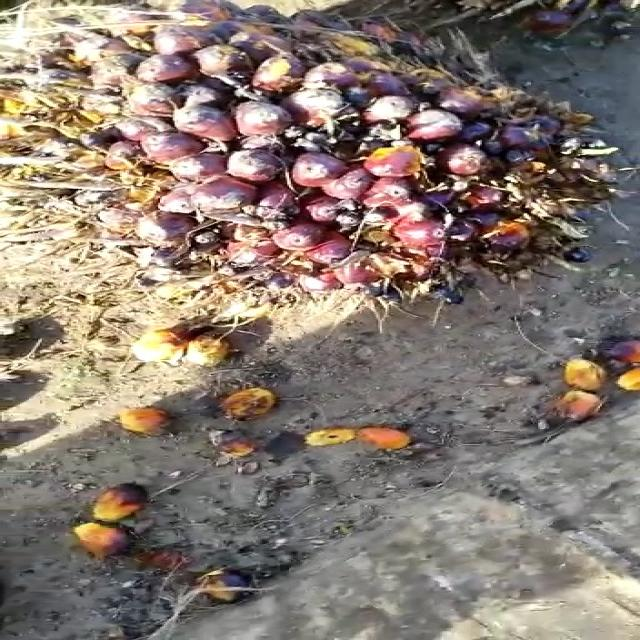palm oil: (0, 12, 616, 313)
